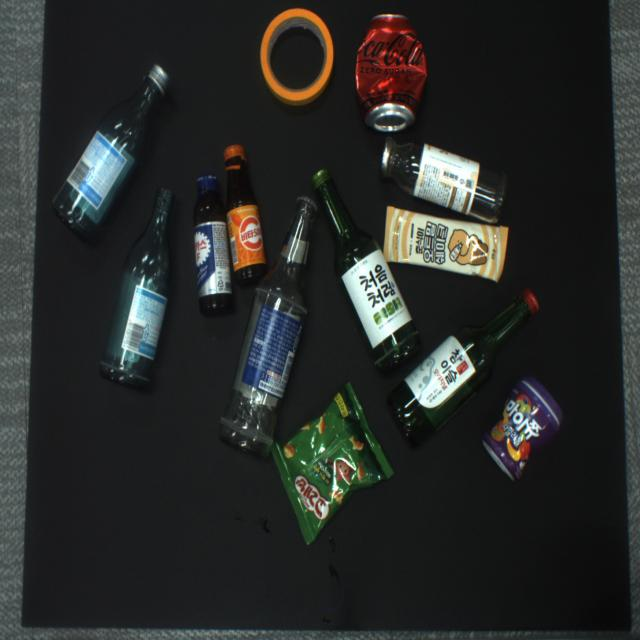beer-bottle: (220, 197, 320, 456)
soju-bottle: (388, 288, 539, 444), (312, 170, 420, 371), (52, 65, 169, 242), (101, 189, 174, 389)
